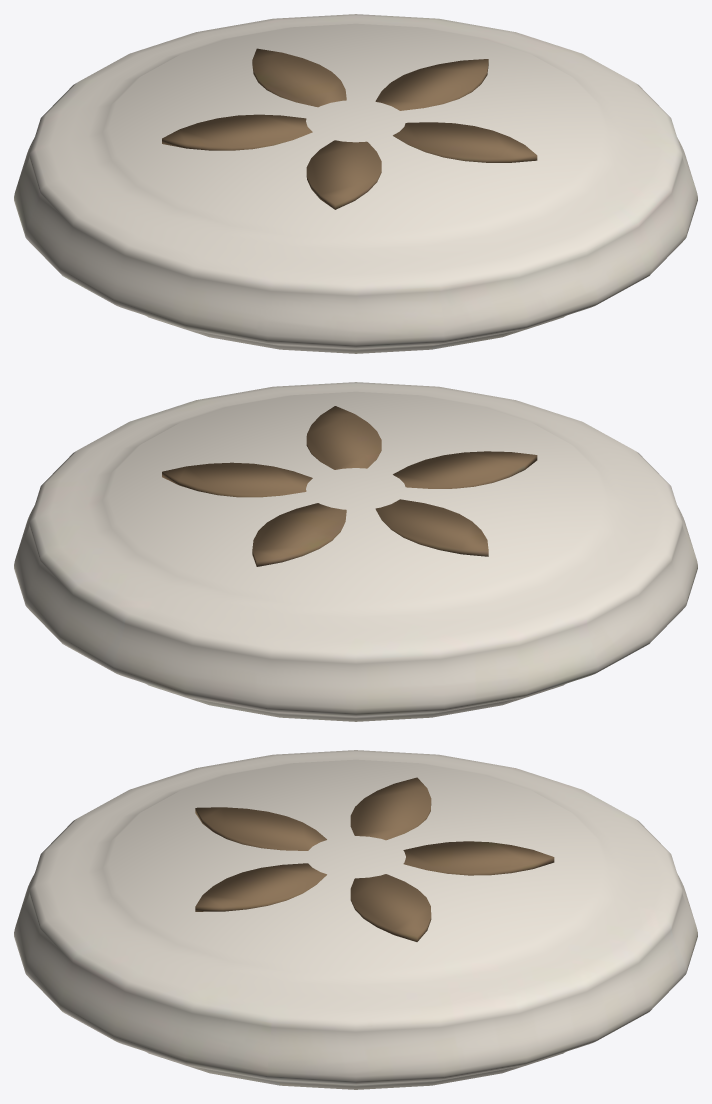
File: sand_dollar.glb
The picture shows the model from 3 angles, top to bottom: view 1: azimuth 30°, elevation 25°; view 2: azimuth 150°, elevation 25°; view 3: azimuth 270°, elevation 25°; orthographic projection.
Parts seen in each view (by area): view 1: sand_dollar; view 2: sand_dollar; view 3: sand_dollar.
Boxes of the visible parts, left/top/right/bottom form: sand_dollar: left=14, top=14, right=697, bottom=353; sand_dollar: left=14, top=382, right=697, bottom=721; sand_dollar: left=14, top=750, right=697, bottom=1089.
Bounding box in the file's own units: 0.0851 × 0.0167 × 0.0851.
Materials: 1 (1 with a texture image).
